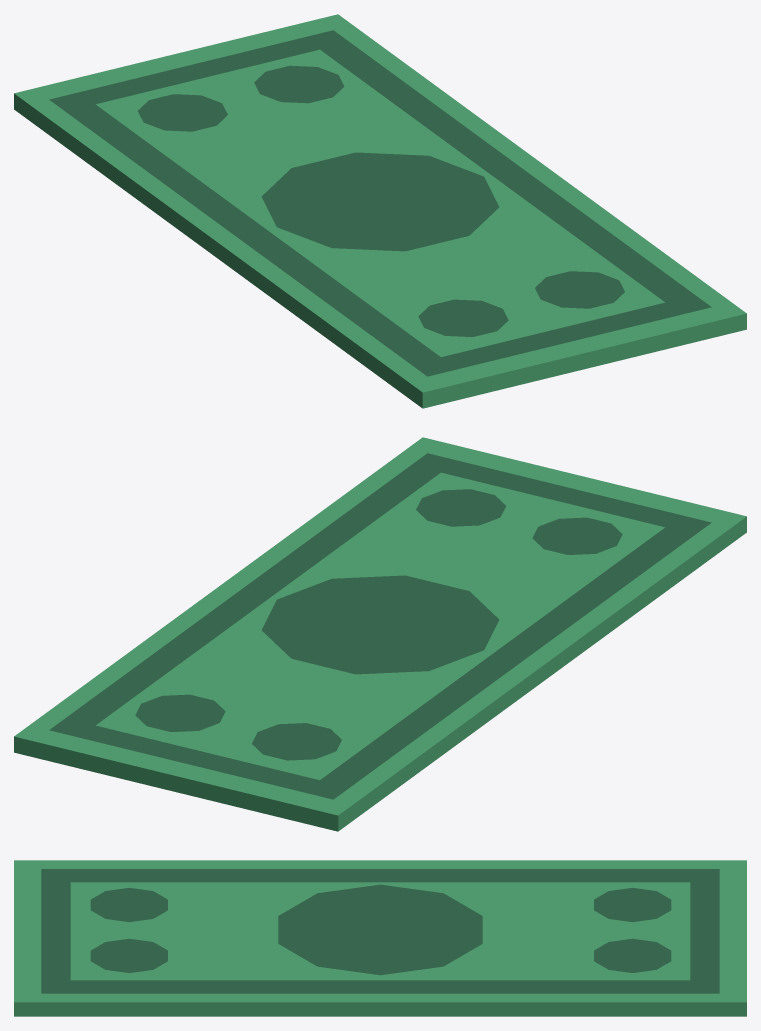
Rendered from PaperMoney_01.fbx.
3 views of the same model, one above another, from view 1: azimuth 30°, elevation 25°; view 2: azimuth 150°, elevation 25°; view 3: azimuth 270°, elevation 25° (orthographic). The views are drawn at different scales.
Visible parts, largest first — view 1: PaperMoney_01; view 2: PaperMoney_01; view 3: PaperMoney_01.
Boxes of the visible parts, left/top/right/bottom form: PaperMoney_01: left=14, top=14, right=746, bottom=408; PaperMoney_01: left=14, top=437, right=746, bottom=831; PaperMoney_01: left=14, top=860, right=746, bottom=1016.
Size of the model in its own units: 0.0695 by 0.00391 by 0.1518.
